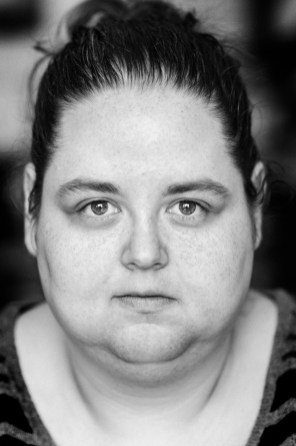ears: (22, 163, 38, 255), (250, 163, 264, 249)
eyes: (65, 195, 123, 230), (163, 196, 220, 229)
mouth: (110, 289, 179, 315)
nose: (119, 224, 170, 273)
